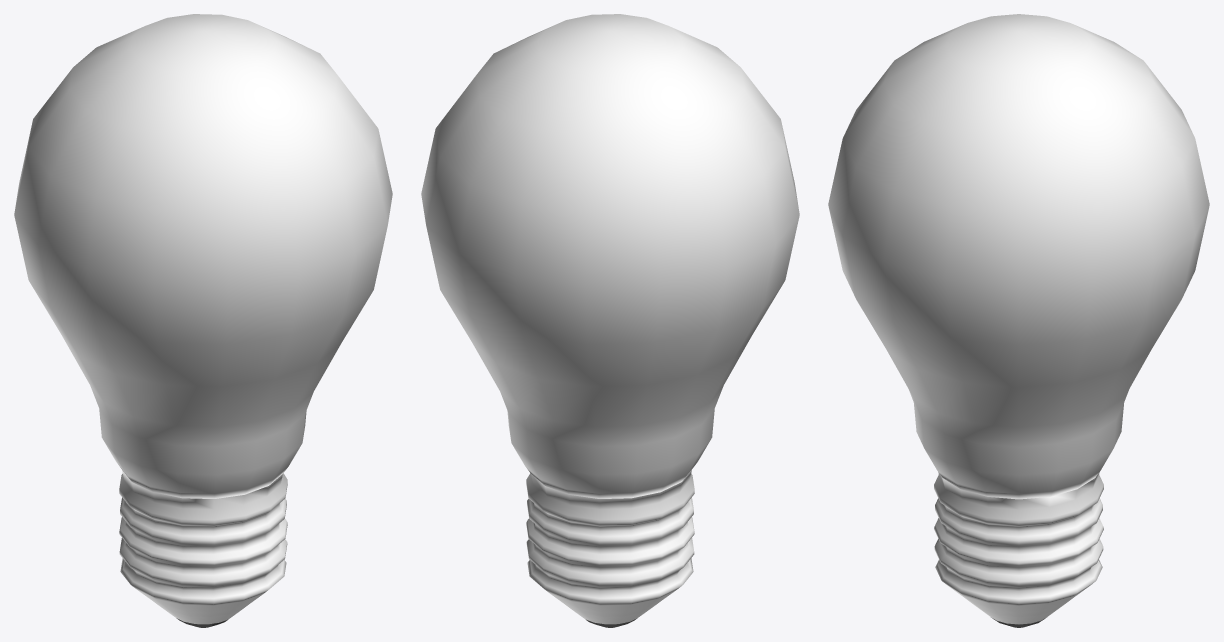
The model's file is whiteLamp.glb.
The picture shows the model from 3 angles, left to right: view 1: azimuth 30°, elevation 25°; view 2: azimuth 150°, elevation 25°; view 3: azimuth 270°, elevation 25°; orthographic projection.
Parts seen in each view (by area): view 1: Sphere, Sphere.001; view 2: Sphere, Sphere.001; view 3: Sphere, Sphere.001.
Boxes of the visible parts, x1,y1,x2,y2 form: Sphere: (14, 14, 392, 498); Sphere.001: (119, 470, 287, 627); Sphere: (421, 14, 799, 498); Sphere.001: (526, 470, 694, 627); Sphere: (828, 14, 1209, 499); Sphere.001: (934, 472, 1103, 627).
Size of the model in its own units: 2.85 by 4.88 by 2.85.
7 materials, 1 textured.
